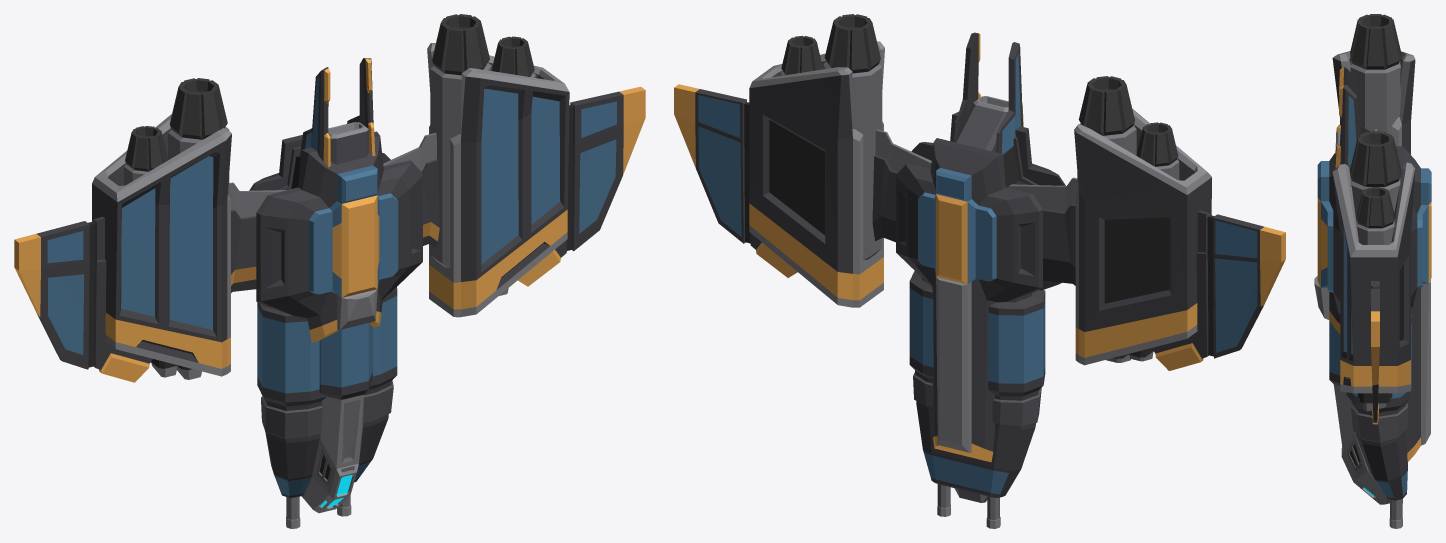
File: bomber_01.glb
3 views of the same model, side by side, from view 1: azimuth 30°, elevation 25°; view 2: azimuth 150°, elevation 25°; view 3: azimuth 270°, elevation 25° (orthographic). The views are drawn at different scales.
Parts seen in each view (by area): view 1: Bomber_01; view 2: Bomber_01; view 3: Bomber_01.
Boxes of the visible parts, x1,y1,x2,y2 form: Bomber_01: [14, 14, 645, 528]; Bomber_01: [674, 14, 1285, 528]; Bomber_01: [1314, 14, 1431, 528].
Size of the model in its own units: 1.5 by 1.1 by 0.2661.
Materials: 1 (1 with a texture image).
